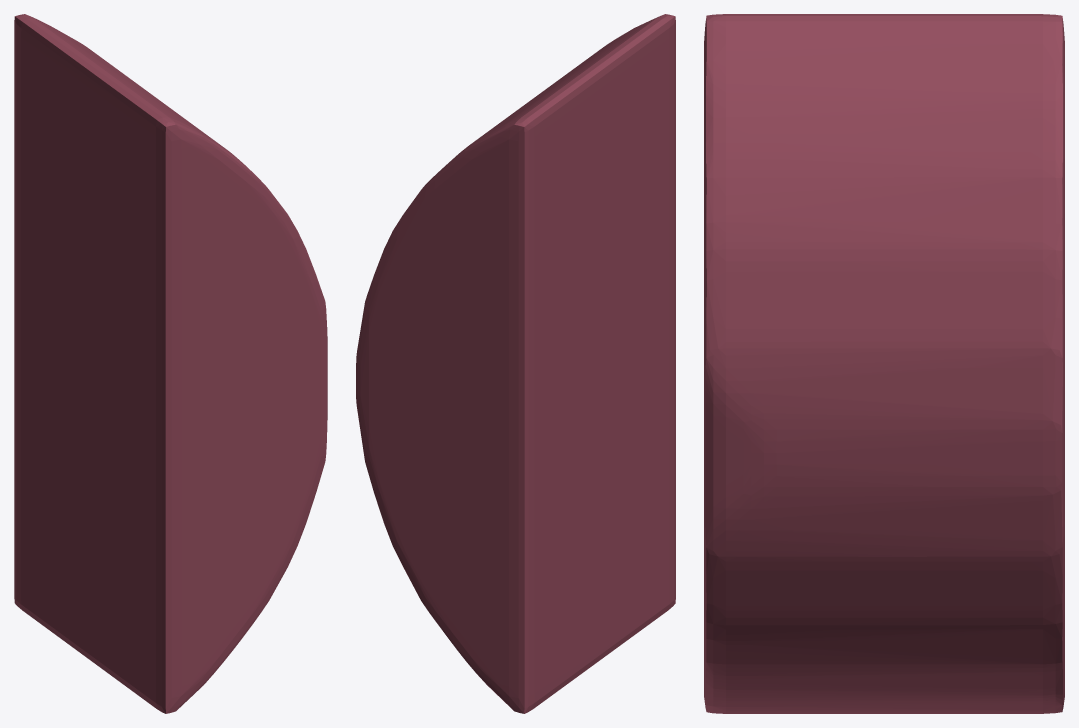
The model's file is right_forearm_1_part_13.obj.
3 renders of one model, left to right at view 1: azimuth 30°, elevation 25°; view 2: azimuth 150°, elevation 25°; view 3: azimuth 270°, elevation 25°, orthographic. The views are drawn at different scales.
Bounding box in the file's own units: 35.87 × 118 × 55.38.
